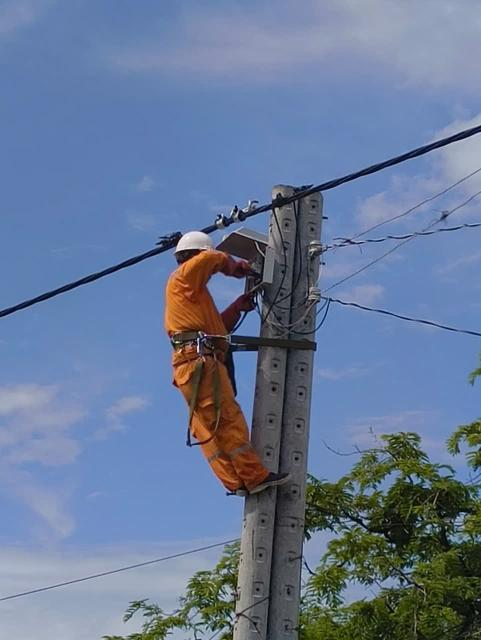gloves: (214, 291, 267, 329), (214, 249, 262, 290)
harness: (151, 324, 240, 376)
helmet: (164, 221, 227, 260)
shoes: (243, 472, 300, 495)
